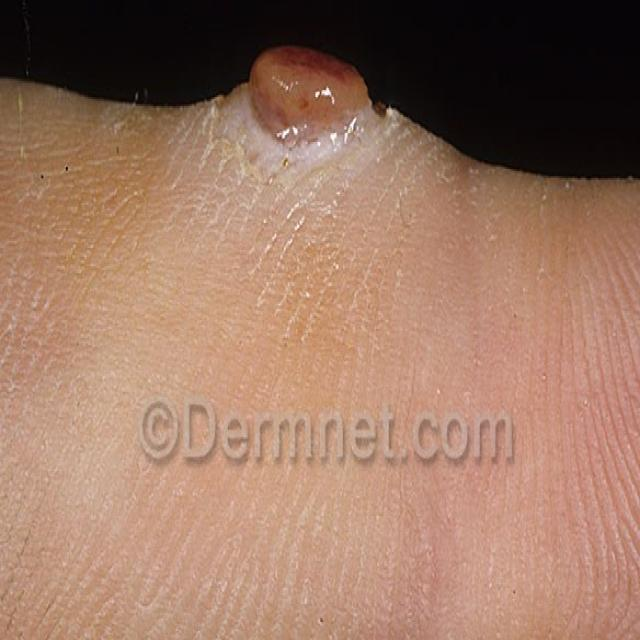Vascular Tumors: (181, 14, 412, 241)
